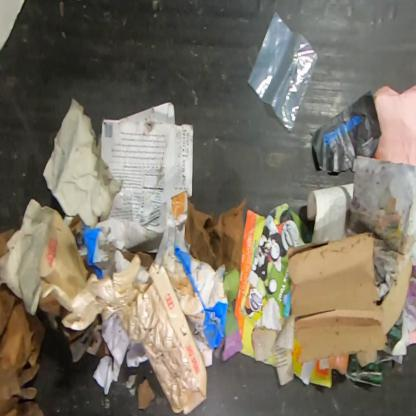cardboard: (286, 231, 414, 369), (41, 96, 123, 230), (148, 261, 208, 415), (173, 243, 229, 350), (120, 250, 156, 271)
soft_plastic: (40, 253, 200, 414), (246, 9, 319, 134)
